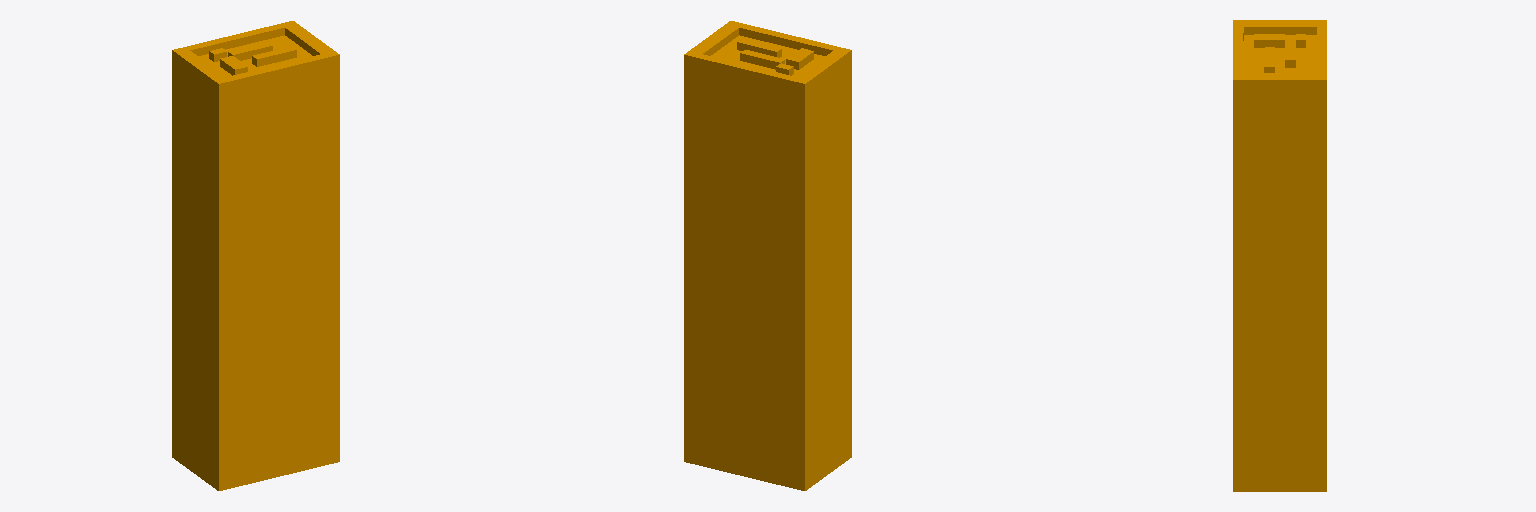
robot.urdf — 40x40_Square:
<?xml version="1.0" ?>
<robot name="40x40_Square">

    <link name="40x40_Square">
        <visual>
            <origin rpy="1.5707963267948966 0 0" xyz="0 0 -0.0"/>
            <geometry>
                <mesh filename="Shapes/40x40_square.obj" scale="0.8165 1 0.5443"/>
            </geometry>
        </visual>
        <collision>
            <origin rpy="1.5707963267948966 0 0" xyz="0 0 -0.0"/>
            <geometry>
                <mesh filename="Shapes/40x40_square.obj" scale="0.8165 1 0.5443"/>
            </geometry>
        </collision>
        <inertial>
            <mass value="0.3"/>
            <inertia ixx="0.000029435425" ixy="0.0" ixz="0.0" iyy="0.000029435425" iyz="0.0" izz="0.00000725805"/>
        </inertial>
    </link>

</robot>

--- What the picture shows (computed from the rendered views, not written in the file) ---
The picture shows the robot from 3 angles, left to right: view 1: azimuth 30°, elevation 25°; view 2: azimuth 150°, elevation 25°; view 3: azimuth 270°, elevation 25°; orthographic projection.
Robot: 40x40_Square — 1 links, 0 joints (none); root link 40x40_Square; default pose: all joints at 0.
Links seen in each view (by area): view 1: 40x40_Square; view 2: 40x40_Square; view 3: 40x40_Square.
Link boxes in pixels (box(x1,y1,x2,y2)): 40x40_Square: box(172, 21, 339, 490); 40x40_Square: box(684, 21, 851, 490); 40x40_Square: box(1233, 20, 1326, 491).
Size in the robot's own frame: 0.0327 by 0.0218 by 0.105 metres.
Meshes: 1 distinct files referenced, 1 mesh visuals loaded (1 OBJ).
